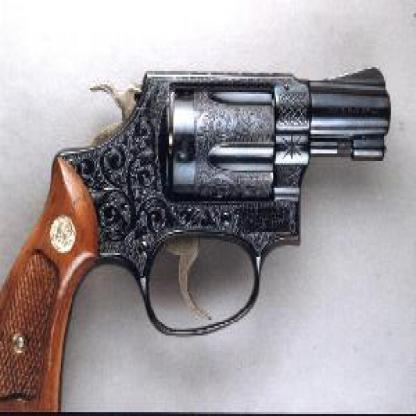pistol: (1, 63, 389, 412)
